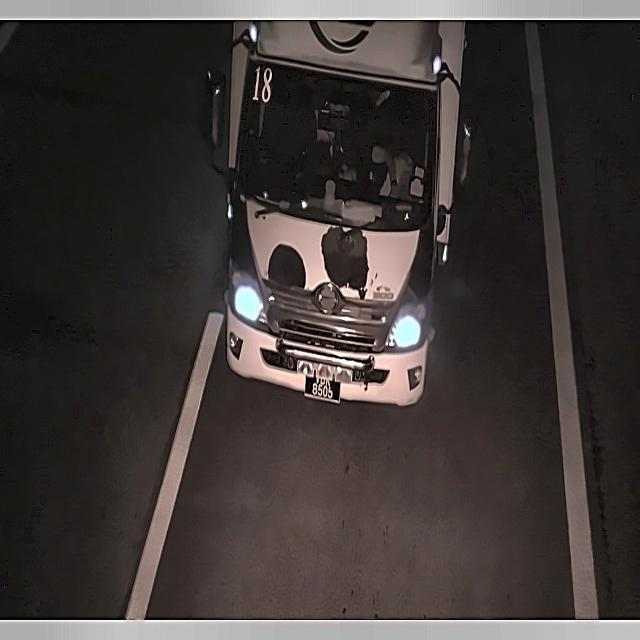car: (301, 371, 345, 406)
